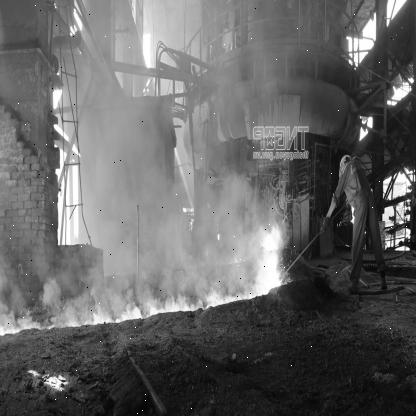fire: (1, 228, 280, 353)
smoke: (45, 4, 326, 308)
